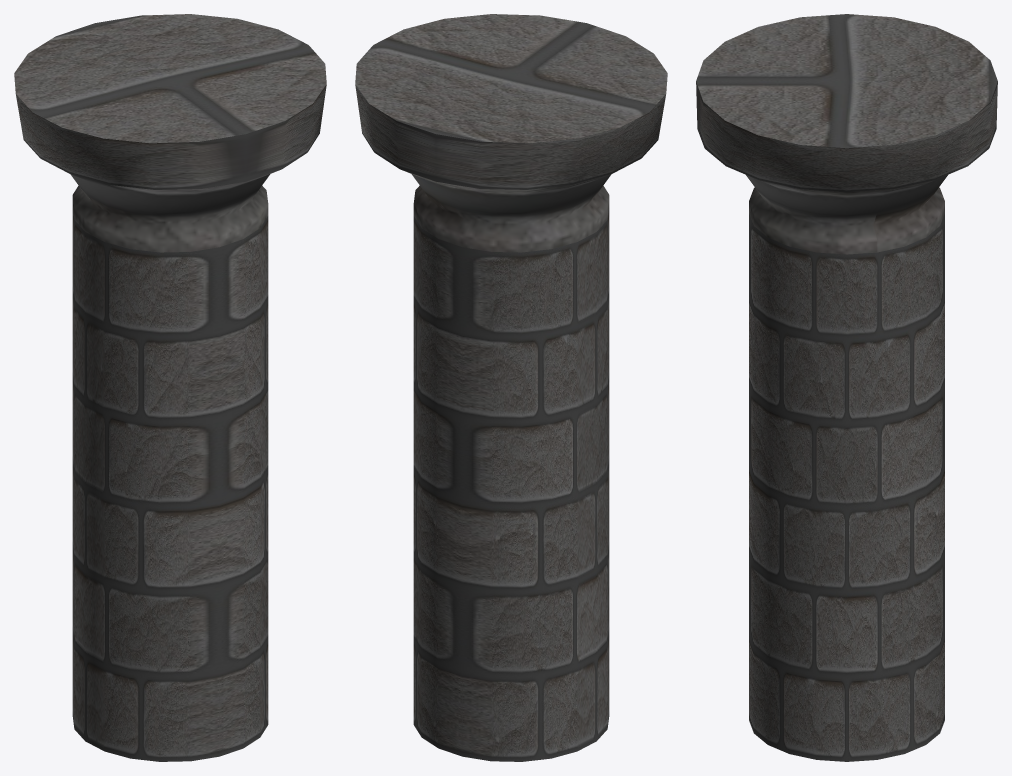
Rendered from Pillar.fbx.
3 renders of one model, left to right at view 1: azimuth 30°, elevation 25°; view 2: azimuth 150°, elevation 25°; view 3: azimuth 270°, elevation 25°, orthographic.
Visible parts, largest first — view 1: pCylinder1; view 2: pCylinder1; view 3: pCylinder1.
Part boxes in pixels (left/top/right/bottom): pCylinder1: left=14, top=14, right=326, bottom=761; pCylinder1: left=355, top=14, right=667, bottom=761; pCylinder1: left=696, top=14, right=997, bottom=761.
Bounding box in the file's own units: 97.39 × 216 × 92.51.
